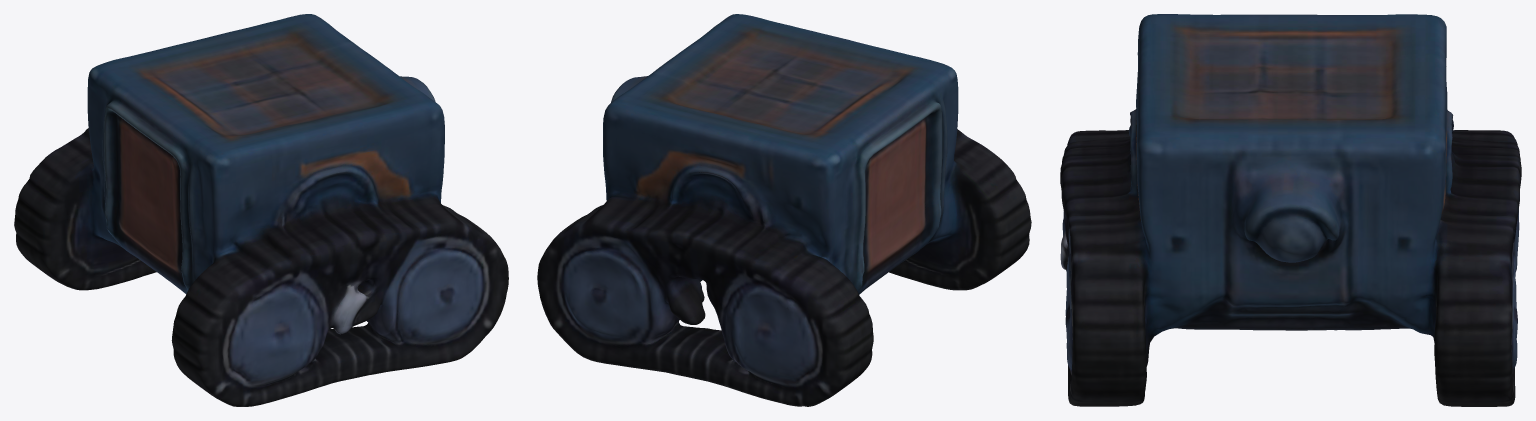
Rendered from robotpleaeglb.glb.
3 views of the same model, side by side, from view 1: azimuth 30°, elevation 25°; view 2: azimuth 150°, elevation 25°; view 3: azimuth 270°, elevation 25° (orthographic). The views are drawn at different scales.
Parts seen in each view (by area): view 1: world; view 2: world; view 3: world.
Boxes of the visible parts, left/top/right/bottom form: world: left=14, top=14, right=508, bottom=406; world: left=537, top=14, right=1031, bottom=406; world: left=1060, top=14, right=1521, bottom=406.
Size of the model in its own units: 0.4134 by 0.2856 by 0.4358.
Materials: 1 (1 with a texture image).
